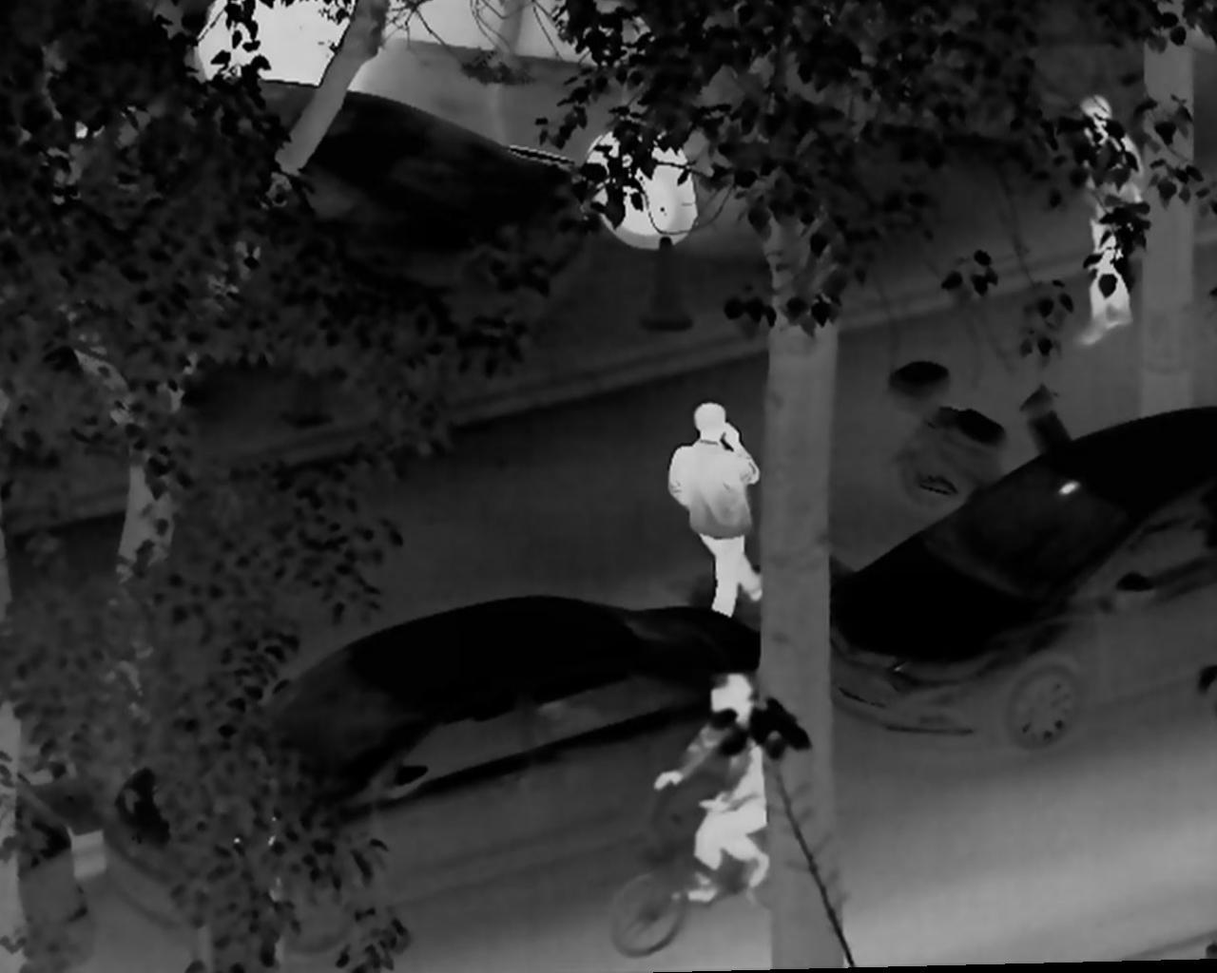person: (649, 662, 775, 912), (661, 396, 766, 628), (1066, 93, 1148, 354)
